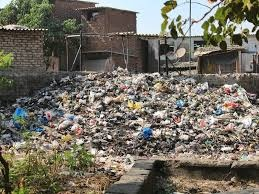rubble: (1, 73, 258, 160)
